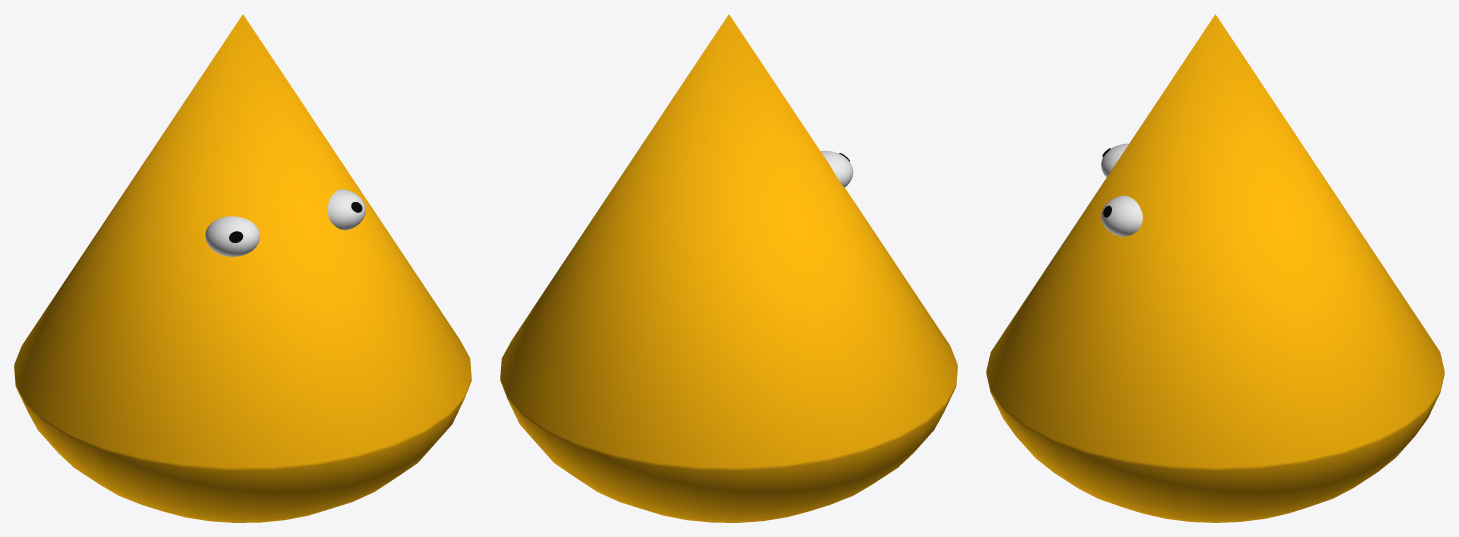
The model's file is DmesonModel.fbx.
3 renders of one model, left to right at view 1: azimuth 30°, elevation 25°; view 2: azimuth 150°, elevation 25°; view 3: azimuth 270°, elevation 25°, orthographic.
Visible parts, largest first — view 1: Body, EyeBall1, EyeBall2; view 2: Body, EyeBall1; view 3: Body, EyeBall2.
Boxes of the visible parts, <box> form: Body: <box>14,14,471,522</box>; EyeBall1: <box>205,216,259,256</box>; EyeBall2: <box>327,189,365,230</box>; Body: <box>500,14,957,522</box>; EyeBall1: <box>821,151,853,187</box>; Body: <box>986,14,1444,522</box>; EyeBall2: <box>1101,195,1142,236</box>.
Bounding box in the file's own units: 489 × 564 × 489.
